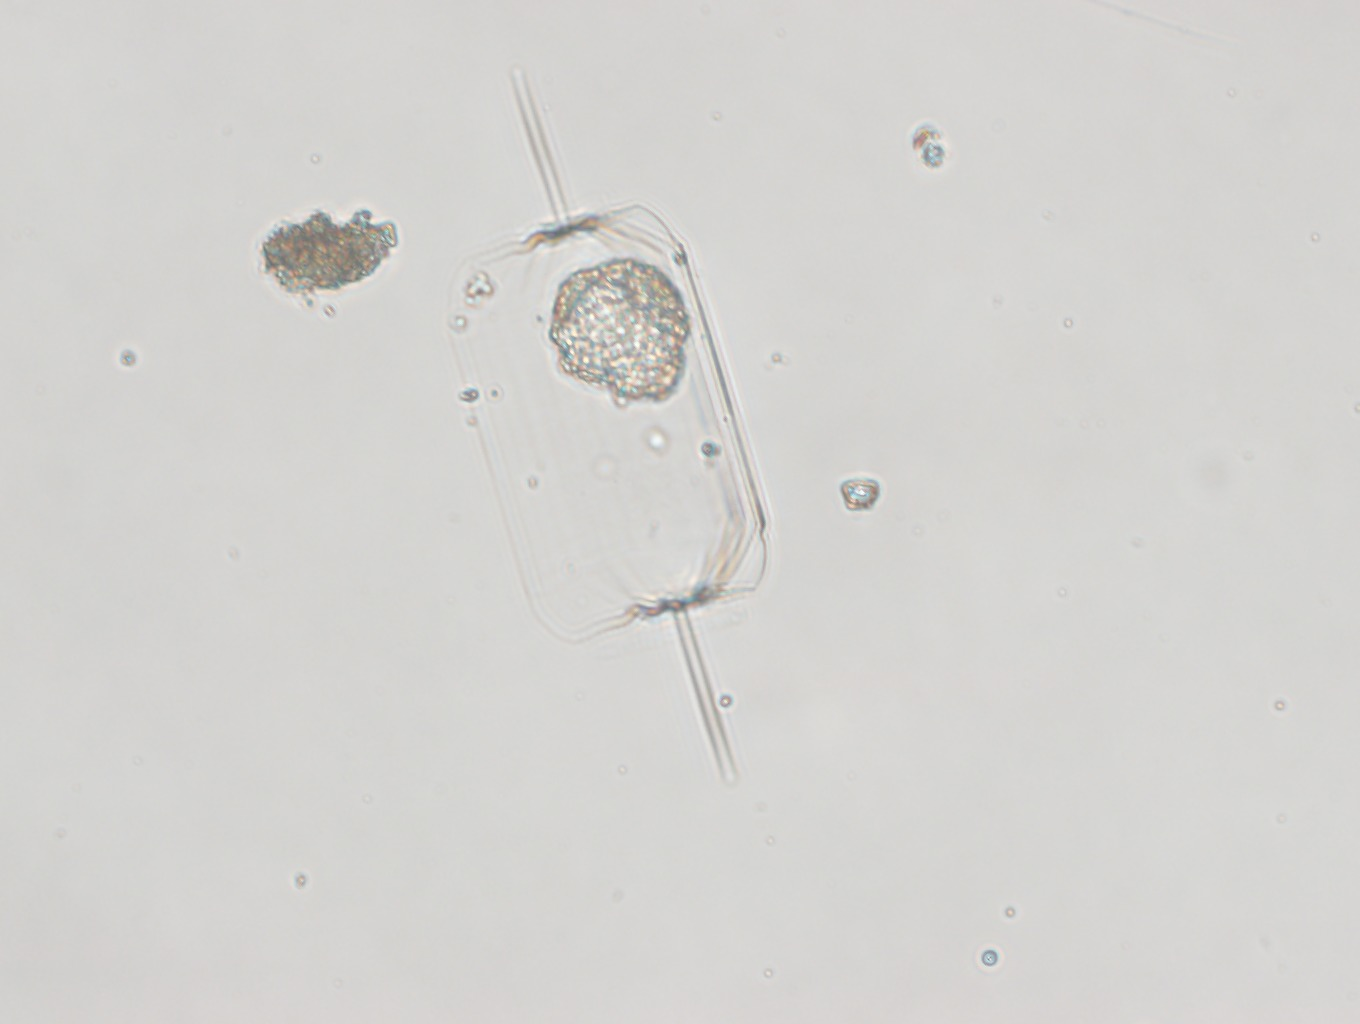ditylum: (444, 67, 769, 784)
